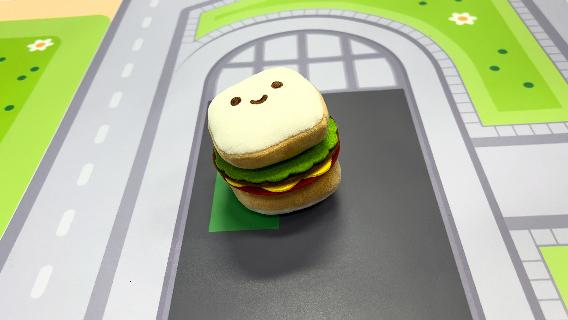sandwich: (206, 64, 344, 216)
